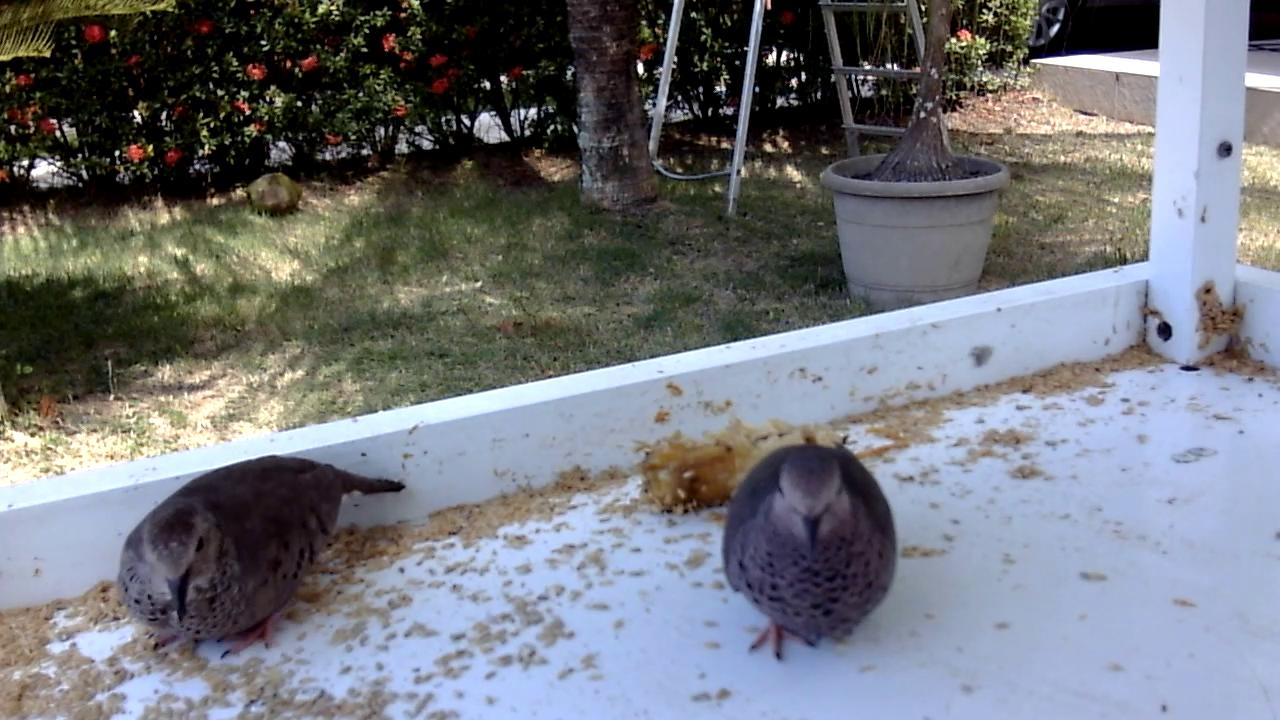rolinha: (114, 447, 410, 667), (720, 439, 902, 663)
